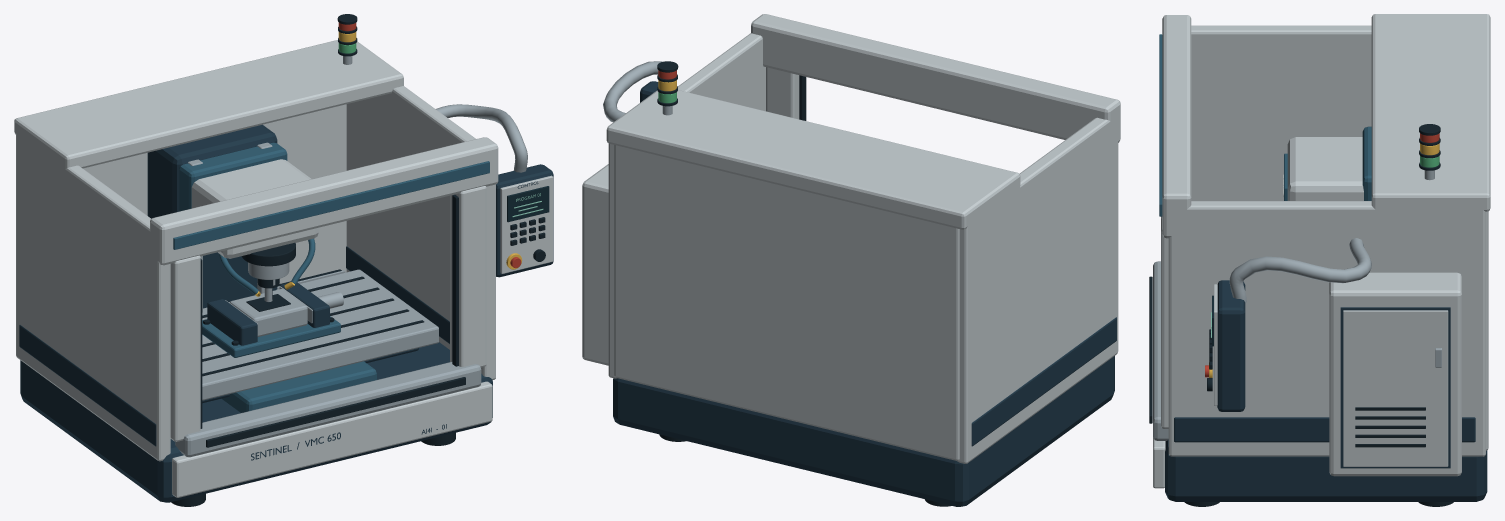
The picture shows the model from 3 angles, left to right: view 1: azimuth 30°, elevation 25°; view 2: azimuth 150°, elevation 25°; view 3: azimuth 270°, elevation 25°; orthographic projection. The views are drawn at different scales.
Parts seen in each view (by area): view 1: static_CNC · warm enamel, static_CNC · cast base, static_CNC · ground steel, static_CNC · axis castings, static_CNC · rubber and recesses, static_CNC · display; view 2: static_CNC · warm enamel, static_CNC · cast base, static_CNC · ground steel, static_CNC · rubber and recesses; view 3: static_CNC · warm enamel, static_CNC · cast base, static_CNC · ground steel, static_CNC · rubber and recesses, static_CNC · axis castings.
Part boxes in pixels (box(x1,y1,x2,y2)): static_CNC · warm enamel: box(14, 40, 553, 497); static_CNC · cast base: box(19, 124, 553, 502); static_CNC · ground steel: box(175, 56, 527, 457); static_CNC · axis castings: box(173, 142, 489, 412); static_CNC · rubber and recesses: box(171, 14, 545, 506); static_CNC · display: box(507, 186, 549, 222); static_CNC · warm enamel: box(582, 14, 1120, 463); static_CNC · cast base: box(613, 81, 1116, 506); static_CNC · ground steel: box(603, 61, 672, 122); static_CNC · rubber and recesses: box(657, 61, 951, 506); static_CNC · warm enamel: box(1153, 14, 1490, 488); static_CNC · cast base: box(1165, 280, 1487, 501); static_CNC · ground steel: box(1153, 170, 1441, 440); static_CNC · rubber and recesses: box(1149, 124, 1453, 506); static_CNC · axis castings: box(1159, 34, 1371, 216).
Bounding box in the file's own units: 4.23 × 3.29 × 2.7.
